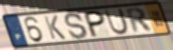6: (24, 15, 45, 44)
K: (42, 15, 68, 41)
P: (84, 10, 107, 40)
R: (124, 7, 155, 35)
S: (63, 11, 90, 40)
U: (103, 8, 131, 36)
